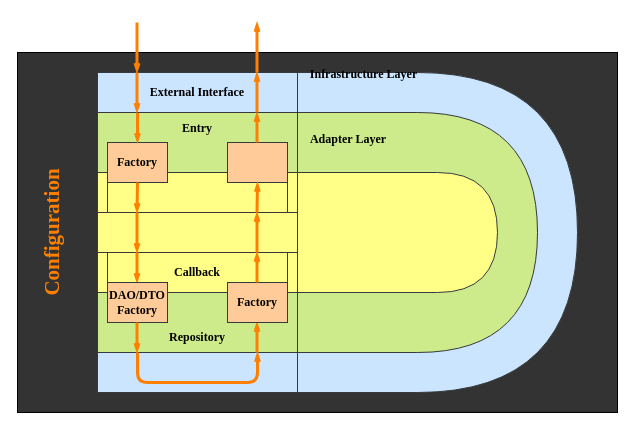
The diagram is 635 pixels wide and 431 high, and some of its shapes have lost their labels. The centre of each missing label's shape, as x and y in pixels:
"Data Source" belongs at point 197,372.
"DTO Factory" belongs at point 257,162.
"Enterprise and Application Layer" belongs at point 397,232.
"Service" belongs at point 197,192.
"Use Case" belongs at point 197,232.
